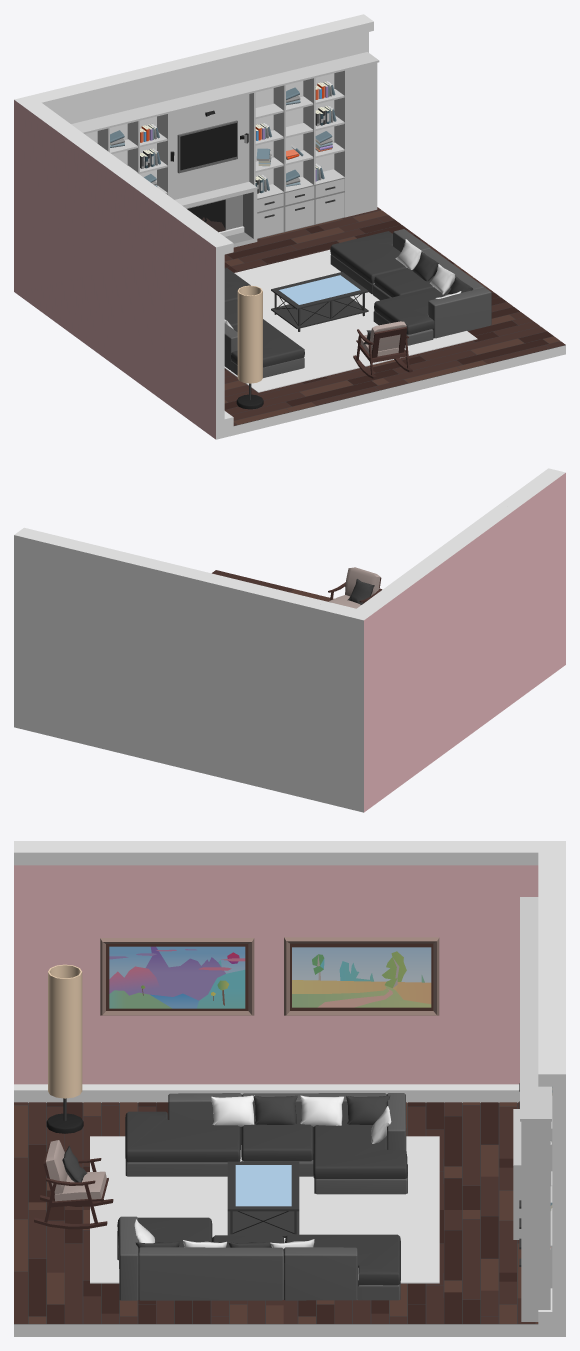
Rendered from room_4.glb.
3 views of the same model, one above another, from view 1: azimuth 30°, elevation 25°; view 2: azimuth 150°, elevation 25°; view 3: azimuth 270°, elevation 25° (orthographic). The views are drawn at different scales.
Visible parts, largest first — view 1: Walls_155.002, tv_wall_010.001, Walls_006.144, sofa_028.008, Walls_006.150, floor_016.019, Walls_011.021, Walls_003.062, floor_016.020, floor_016.021, coffee_table_006.004, sofa_028.007 (+3 smaller); view 2: Walls_006.144, Walls_155.002, Walls_003.062, Walls_003.061, lounge_chair_010.002, floor_016.019; view 3: Walls_155.002, sofa_028.008, sofa_028.007, Walls_006.150, floor_016.020, floor_016.019, picture_058.001, picture_057.001, tv_wall_010.001, Walls_011.021, Walls_003.061, floor_016.022 (+11 smaller).
Part boxes in pixels (x1=…): Walls_155.002: x1=14, y1=97, x2=224, y2=439; tv_wall_010.001: x1=71, y1=52, x2=379, y2=247; Walls_006.144: x1=23, y1=14, x2=368, y2=185; sofa_028.008: x1=330, y1=229, x2=491, y2=345; Walls_006.150: x1=224, y1=249, x2=477, y2=392; floor_016.019: x1=367, y1=272, x2=565, y2=386; Walls_011.021: x1=224, y1=210, x2=565, y2=437; Walls_003.062: x1=37, y1=18, x2=373, y2=109; floor_016.020: x1=224, y1=207, x2=466, y2=272; floor_016.021: x1=224, y1=366, x2=394, y2=425; coffee_table_006.004: x1=271, y1=272, x2=368, y2=331; sofa_028.007: x1=224, y1=268, x2=304, y2=377; Walls_006.144: x1=14, y1=531, x2=359, y2=810; Walls_155.002: x1=355, y1=470, x2=565, y2=812; Walls_003.062: x1=19, y1=527, x2=355, y2=612; Walls_003.061: x1=352, y1=468, x2=556, y2=614; lounge_chair_010.002: x1=328, y1=567, x2=382, y2=608; floor_016.019: x1=212, y1=570, x2=333, y2=601; Walls_155.002: x1=14, y1=841, x2=565, y2=1084; sofa_028.008: x1=117, y1=1216, x2=400, y2=1300; sofa_028.007: x1=125, y1=1093, x2=407, y2=1194; Walls_006.150: x1=90, y1=1136, x2=439, y2=1283; floor_016.020: x1=283, y1=1210, x2=538, y2=1323; floor_016.019: x1=14, y1=1210, x2=283, y2=1323; picture_058.001: x1=284, y1=937, x2=439, y2=1015; picture_057.001: x1=100, y1=938, x2=254, y2=1015; tv_wall_010.001: x1=513, y1=897, x2=552, y2=1321; Walls_011.021: x1=14, y1=1103, x2=552, y2=1336; Walls_003.061: x1=14, y1=847, x2=552, y2=865; floor_016.022: x1=406, y1=1102, x2=519, y2=1209.
Size of the model in its own units: 8 by 4.2 by 8.
Materials: 1 (1 with a texture image).
